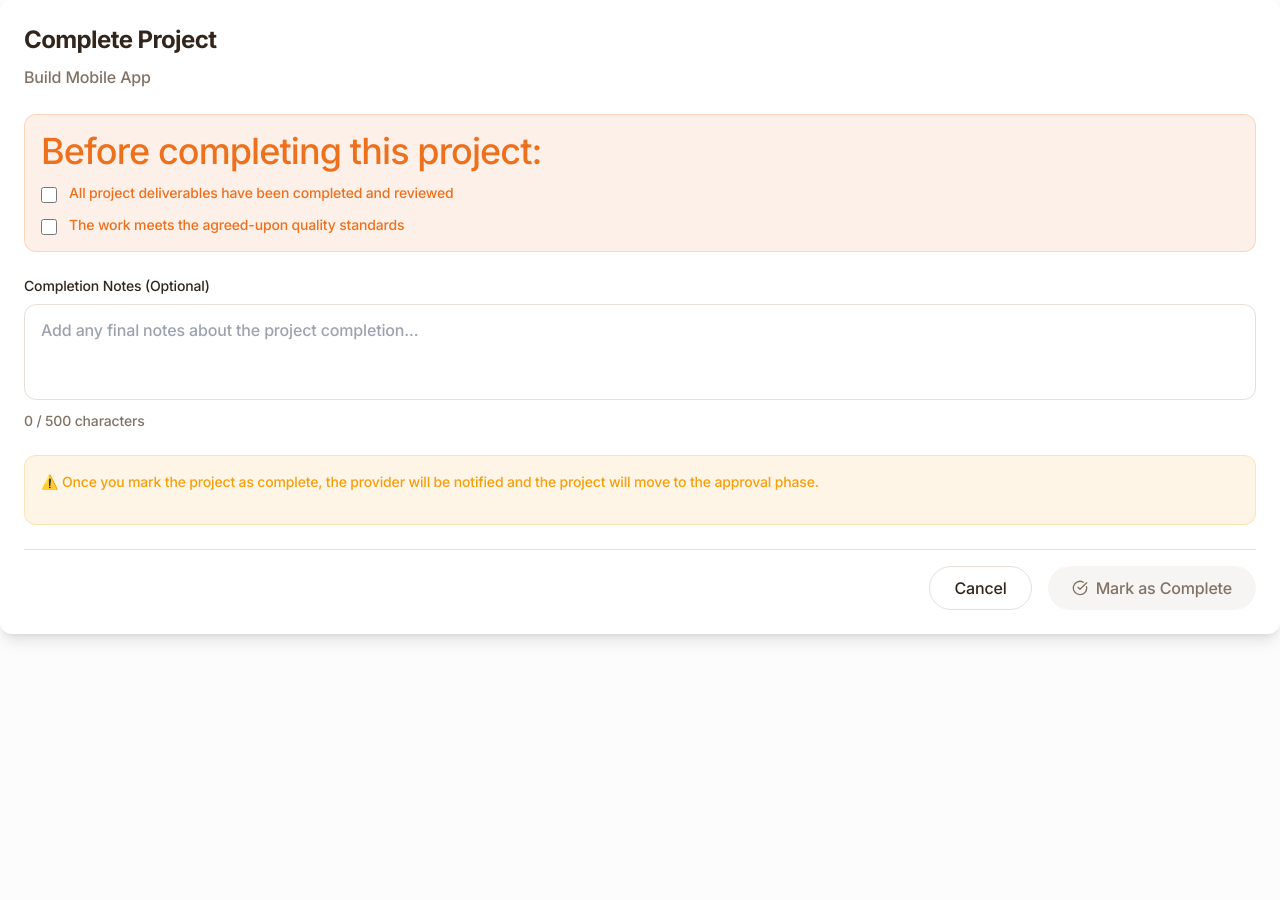
Test case: ProjectCompletionForm › Notes Field › should update character counter as user types
The image size is (1280, 900).
Type "Test note" into the text box with placeholder "Add any final notes about the project completion..." at (640, 352), box top-left (24, 304), bottom-right (1256, 400)
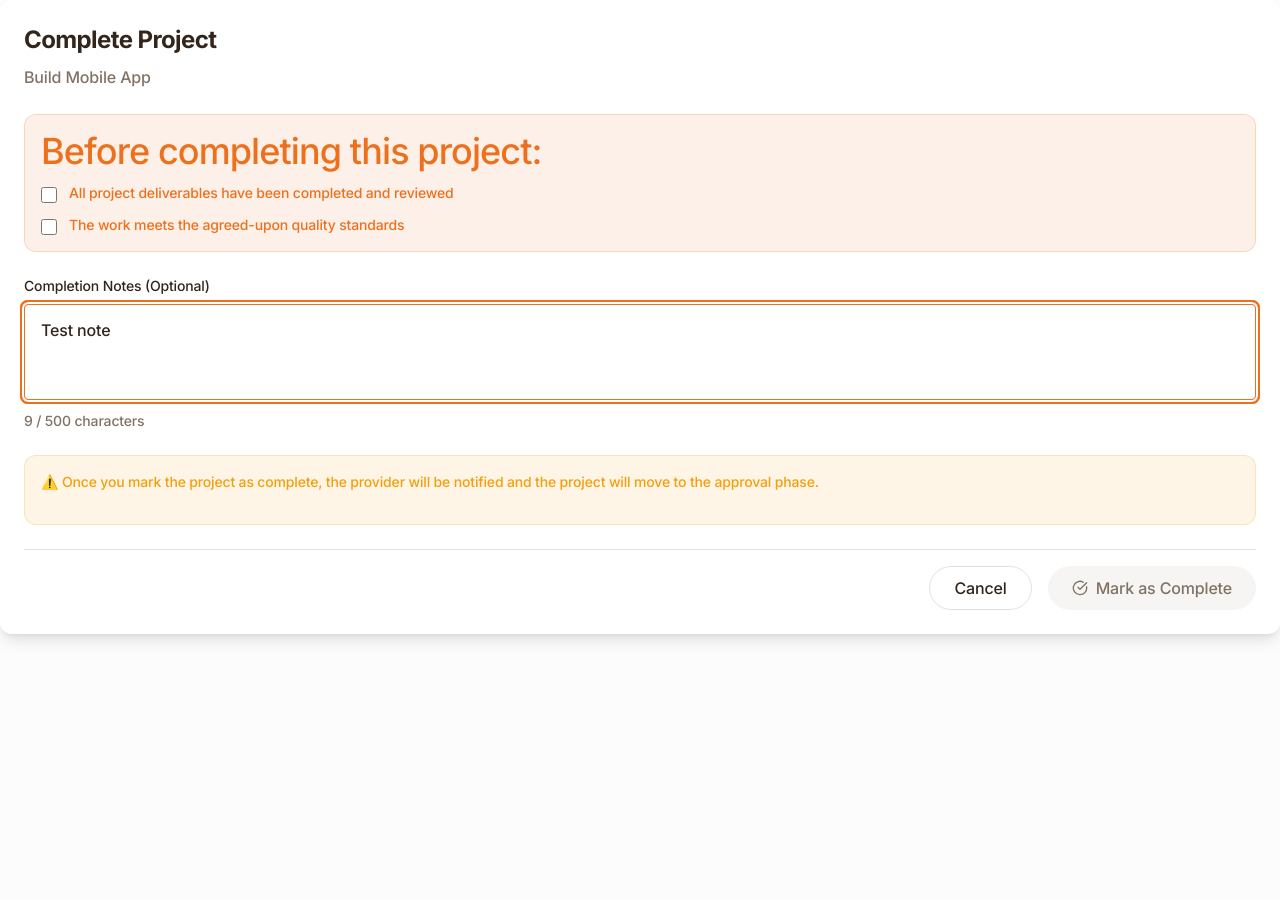
Expected: the text "9 / 500 characters" is shown, top-left (24, 412), bottom-right (144, 429)
